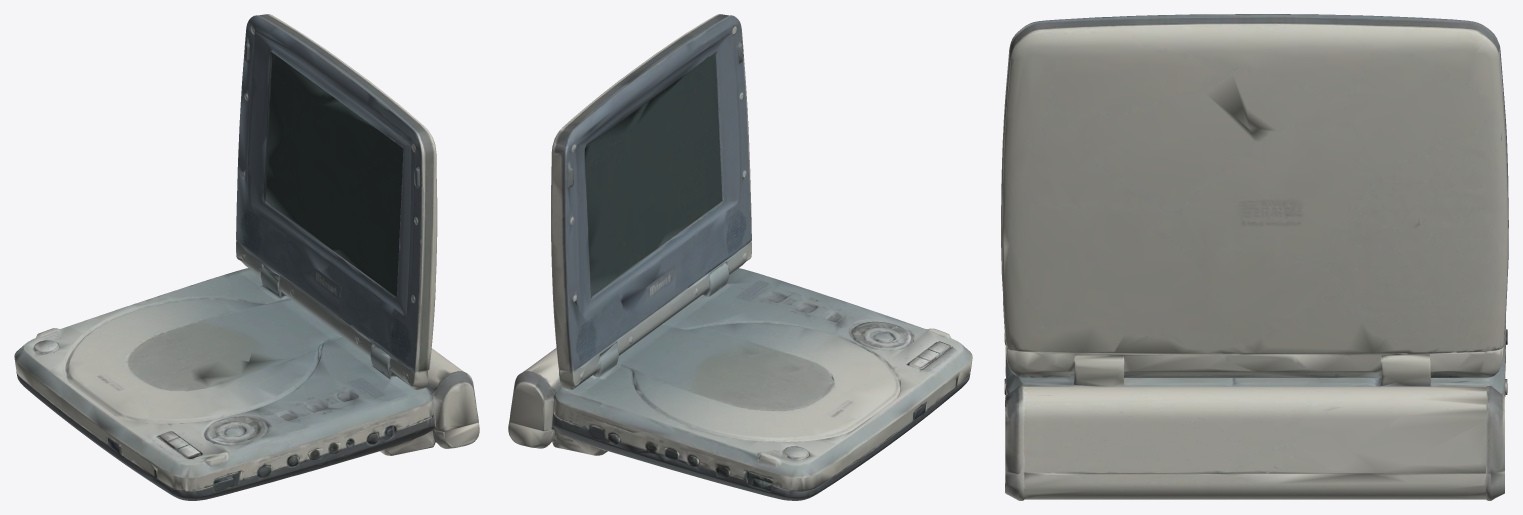
Rendered from dvd.glb.
The picture shows the model from 3 angles, left to right: view 1: azimuth 30°, elevation 25°; view 2: azimuth 150°, elevation 25°; view 3: azimuth 270°, elevation 25°; orthographic projection. The views are drawn at different scales.
Visible parts, largest first — view 1: node_0; view 2: node_0; view 3: node_0.
Part boxes in pixels (box(x1,y1,x2,y2)): node_0: box(14, 14, 479, 500); node_0: box(508, 14, 972, 500); node_0: box(1001, 14, 1508, 500).
Size of the model in its own units: 0.7054 by 0.7205 by 0.7298.
1 material, 1 textured.
